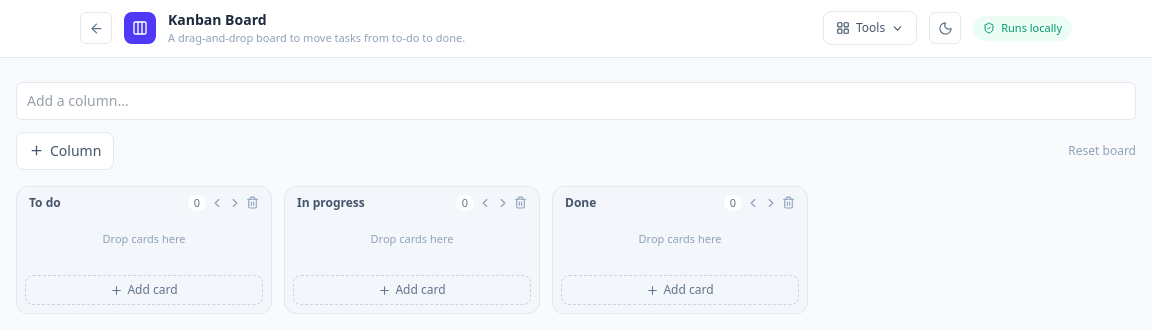
it: KanbanApp › adds a new column
Type "Blocked" into the field named "New column name" at [576, 100], box [16,82,1136,120]
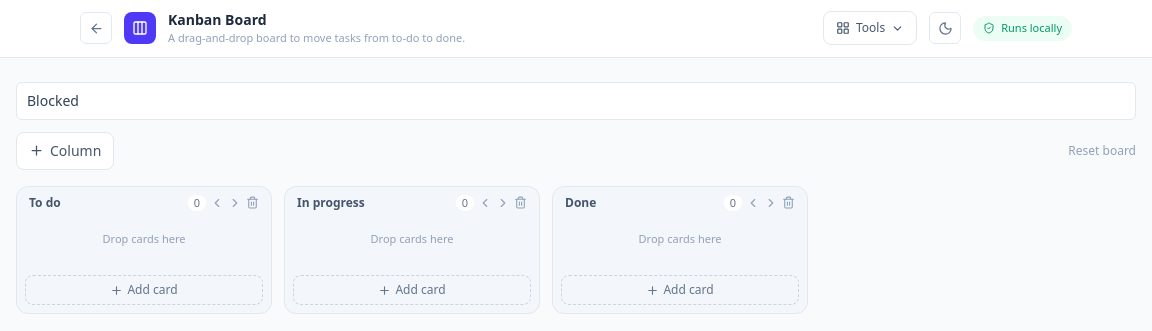
Click the button "Column" at [65, 150], box [16,132,114,170]
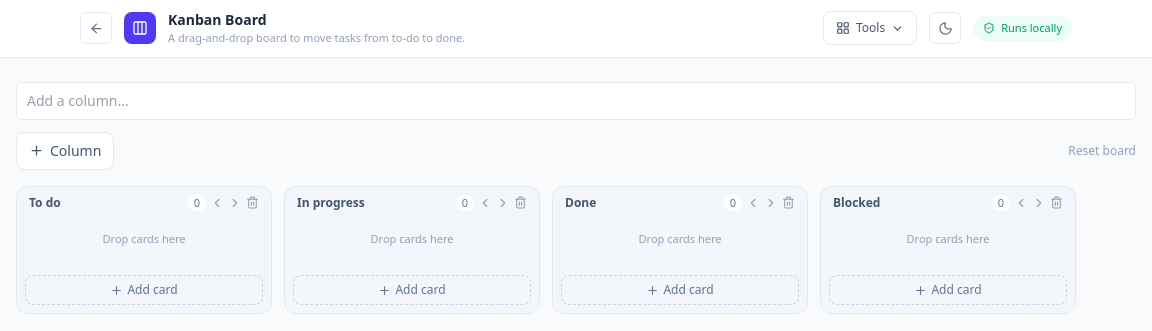
Result: the field showing "Blocked" is shown at [833,195,988,211]
